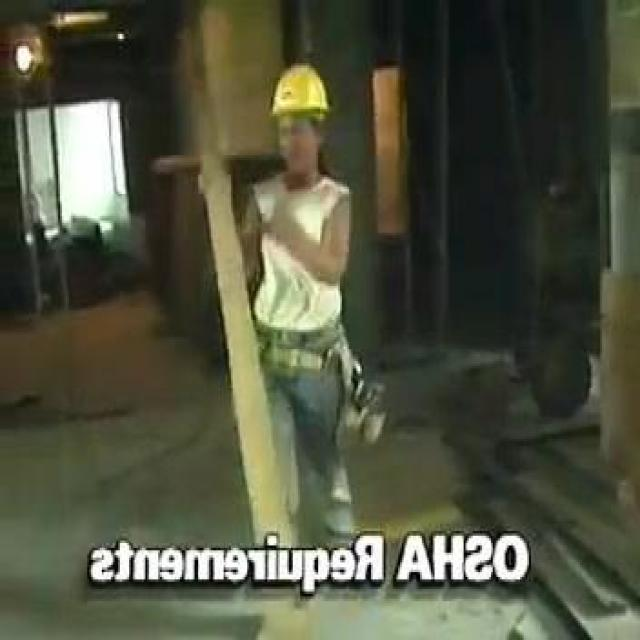Reflective-Jacket: (231, 170, 373, 390)
Safety-Helmet: (256, 49, 348, 143)
